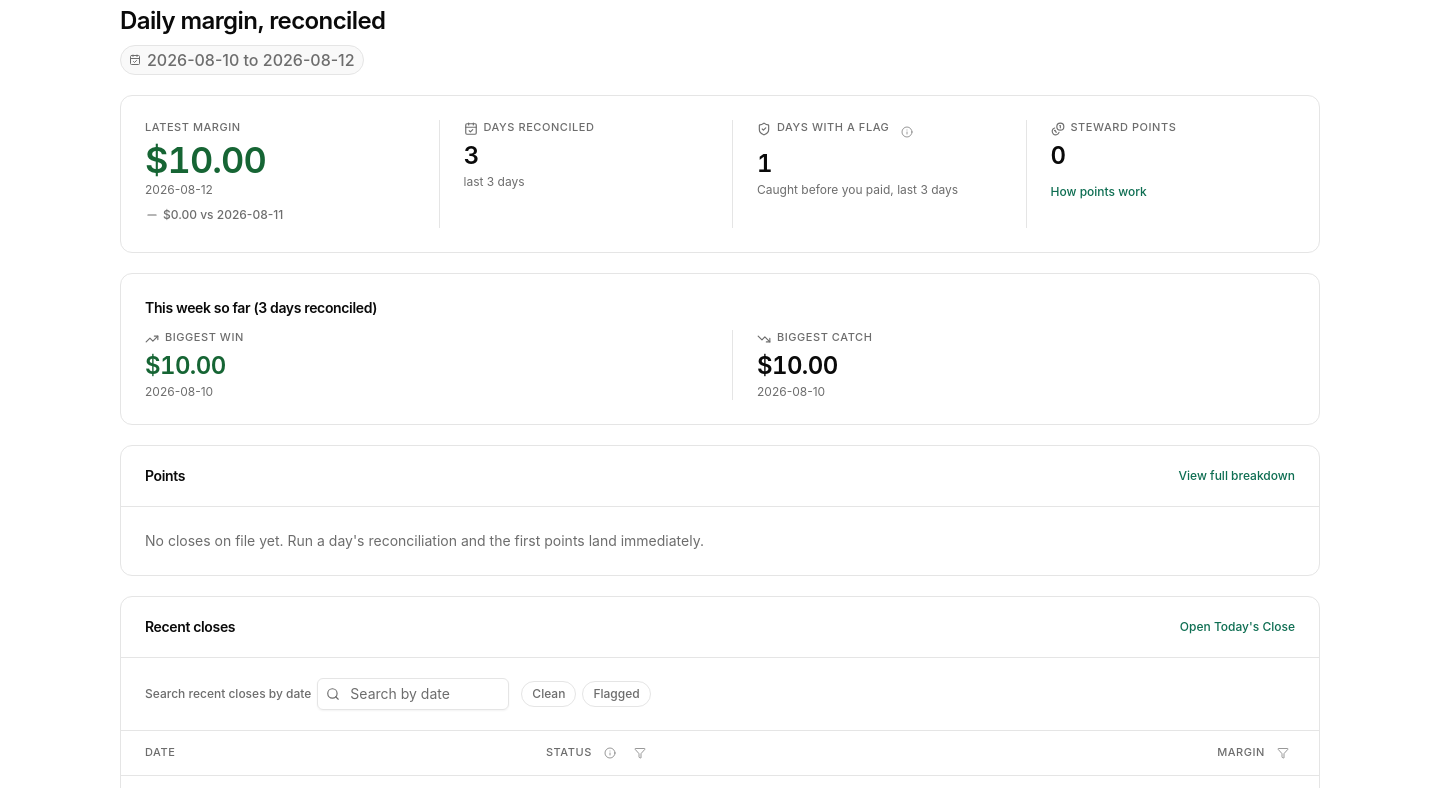
Test: HomePage › narrows the Recent closes table to flagged days only via the status chip
Click the button "Flagged".
click(617, 694)  # box [582,681,651,707]
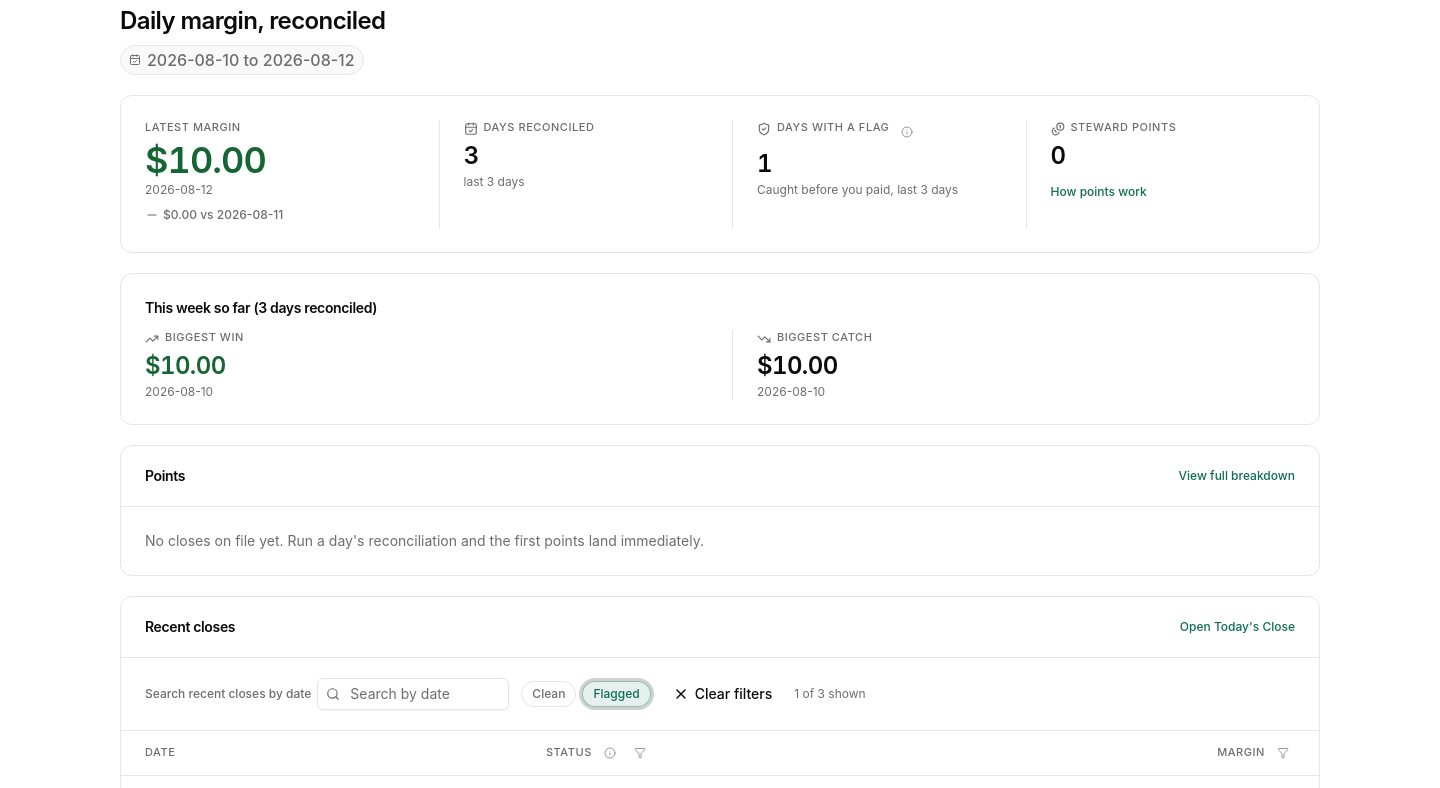
Click the button "Clear filters".
click(722, 694)  # box [663,678,782,710]
(page scrolled)
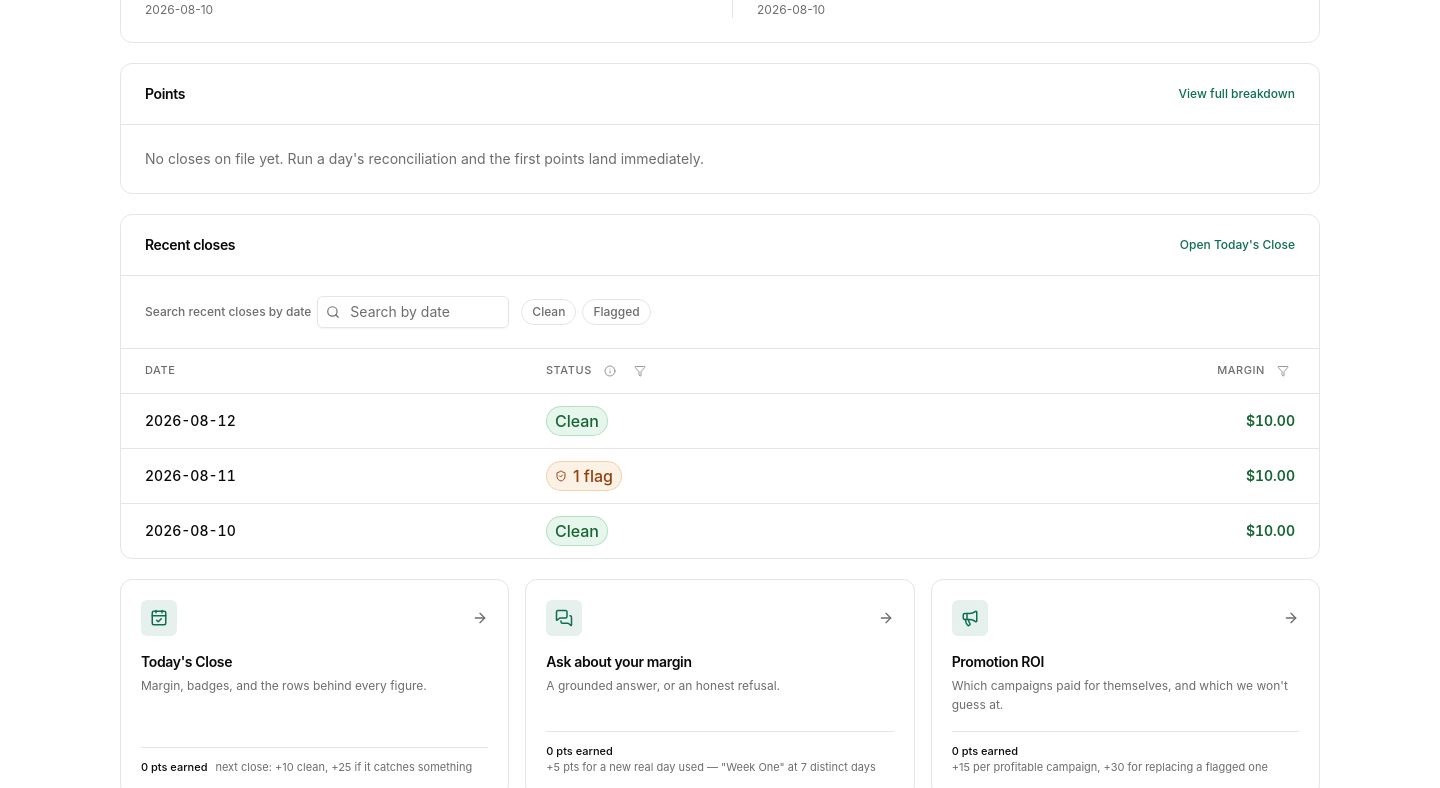
Expected: the column heading "2026-08-10" is shown, [121,503,526,558]
